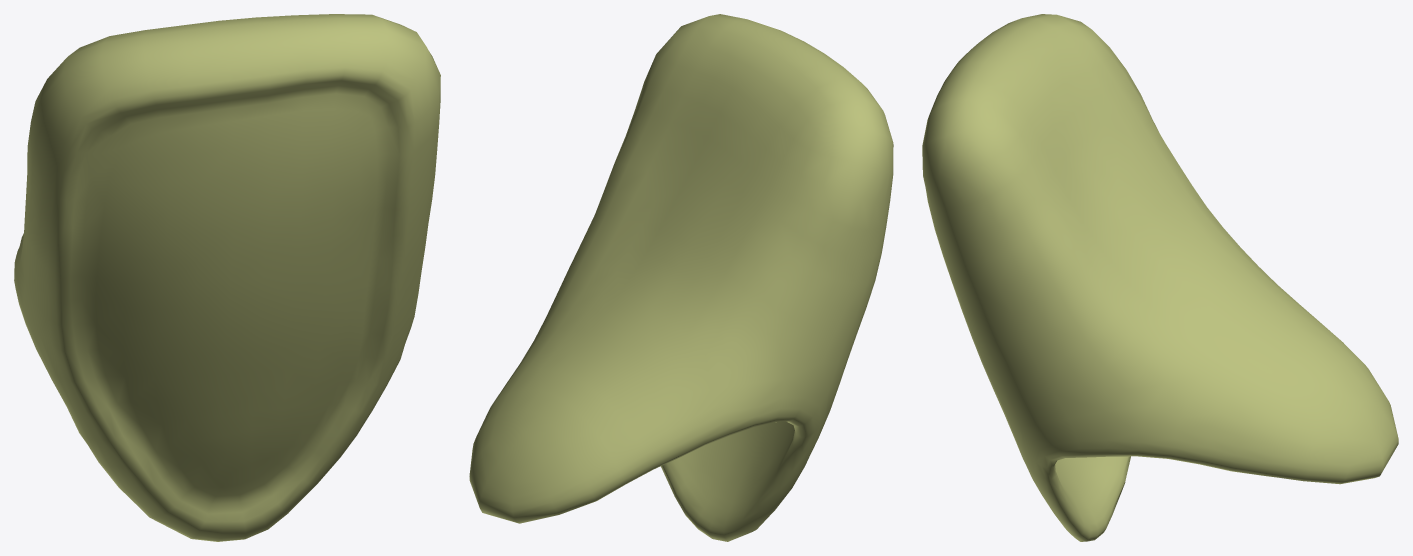
The model's file is BL2_Enamel_Prongs.001.glb.
The picture shows the model from 3 angles, left to right: view 1: azimuth 30°, elevation 25°; view 2: azimuth 150°, elevation 25°; view 3: azimuth 270°, elevation 25°; orthographic projection. The views are drawn at different scales.
Visible parts, largest first — view 1: BL2_Enamel_Prongs.001; view 2: BL2_Enamel_Prongs.001; view 3: BL2_Enamel_Prongs.001.
Part boxes in pixels (x1,y1,x2,y2): BL2_Enamel_Prongs.001: [14, 14, 440, 541]; BL2_Enamel_Prongs.001: [469, 14, 893, 541]; BL2_Enamel_Prongs.001: [922, 14, 1398, 541].
Size of the model in its own units: 0.6297 by 0.9192 by 0.8329.
